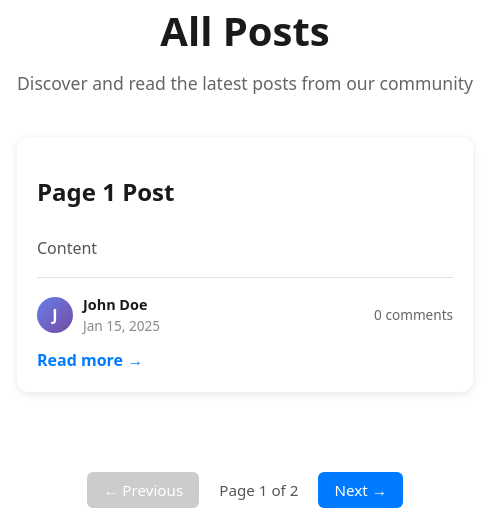
Scenario: PostsList Component › Pagination › should fetch previous page when "Previous" button is clicked
Expected: the heading "Page 1 Post" is shown, [37, 176, 174, 208]
Click the button "Next →".
click(361, 490)  # box [318, 472, 403, 508]
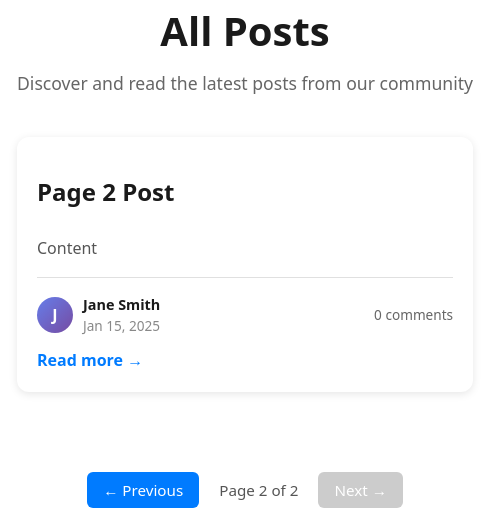
Result: the heading "Page 2 Post" is shown at [37, 176, 174, 208]
Click the button "← Previous".
click(143, 490)  # box [87, 472, 199, 508]
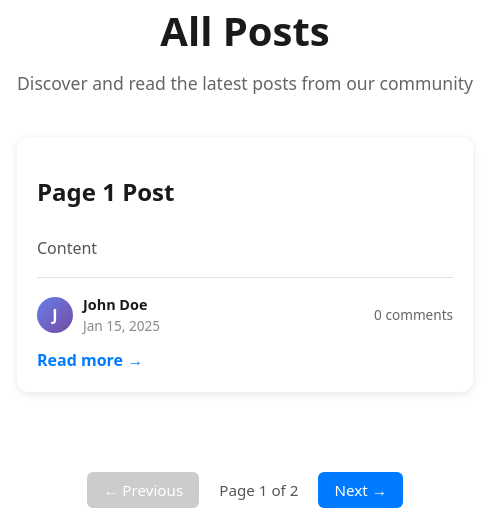
Result: the heading "Page 1 Post" is shown at [37, 176, 174, 208]
